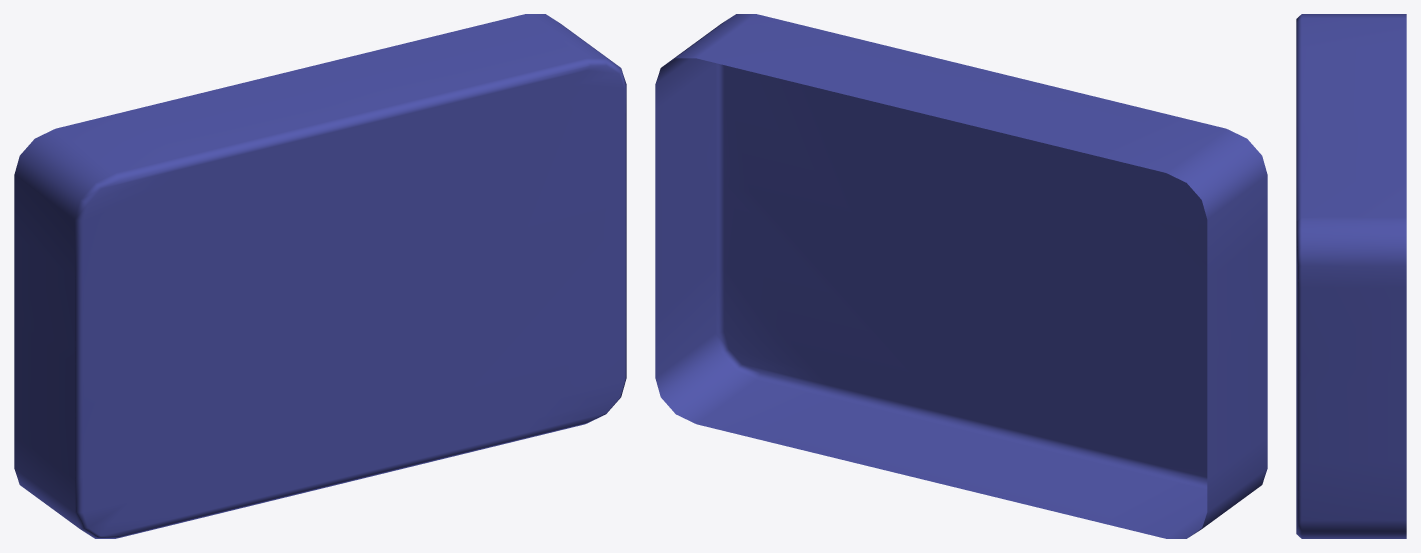
The model's file is button.fbx.
3 views of the same model, side by side, from view 1: azimuth 30°, elevation 25°; view 2: azimuth 150°, elevation 25°; view 3: azimuth 270°, elevation 25° (orthographic). The views are drawn at different scales.
Parts seen in each view (by area): view 1: button1; view 2: button1; view 3: button1.
Boxes of the visible parts, x1,y1,x2,y2 form: button1: [14, 14, 626, 538]; button1: [655, 14, 1267, 538]; button1: [1296, 14, 1406, 538].
Bounding box in the file's own units: 842 × 533 × 168.
